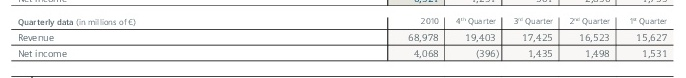table: (0, 0, 686, 78)
